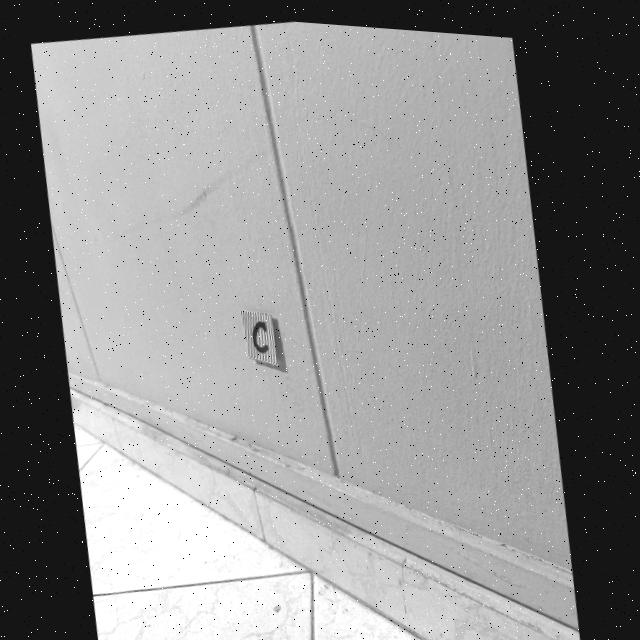C: (255, 317, 272, 349)
